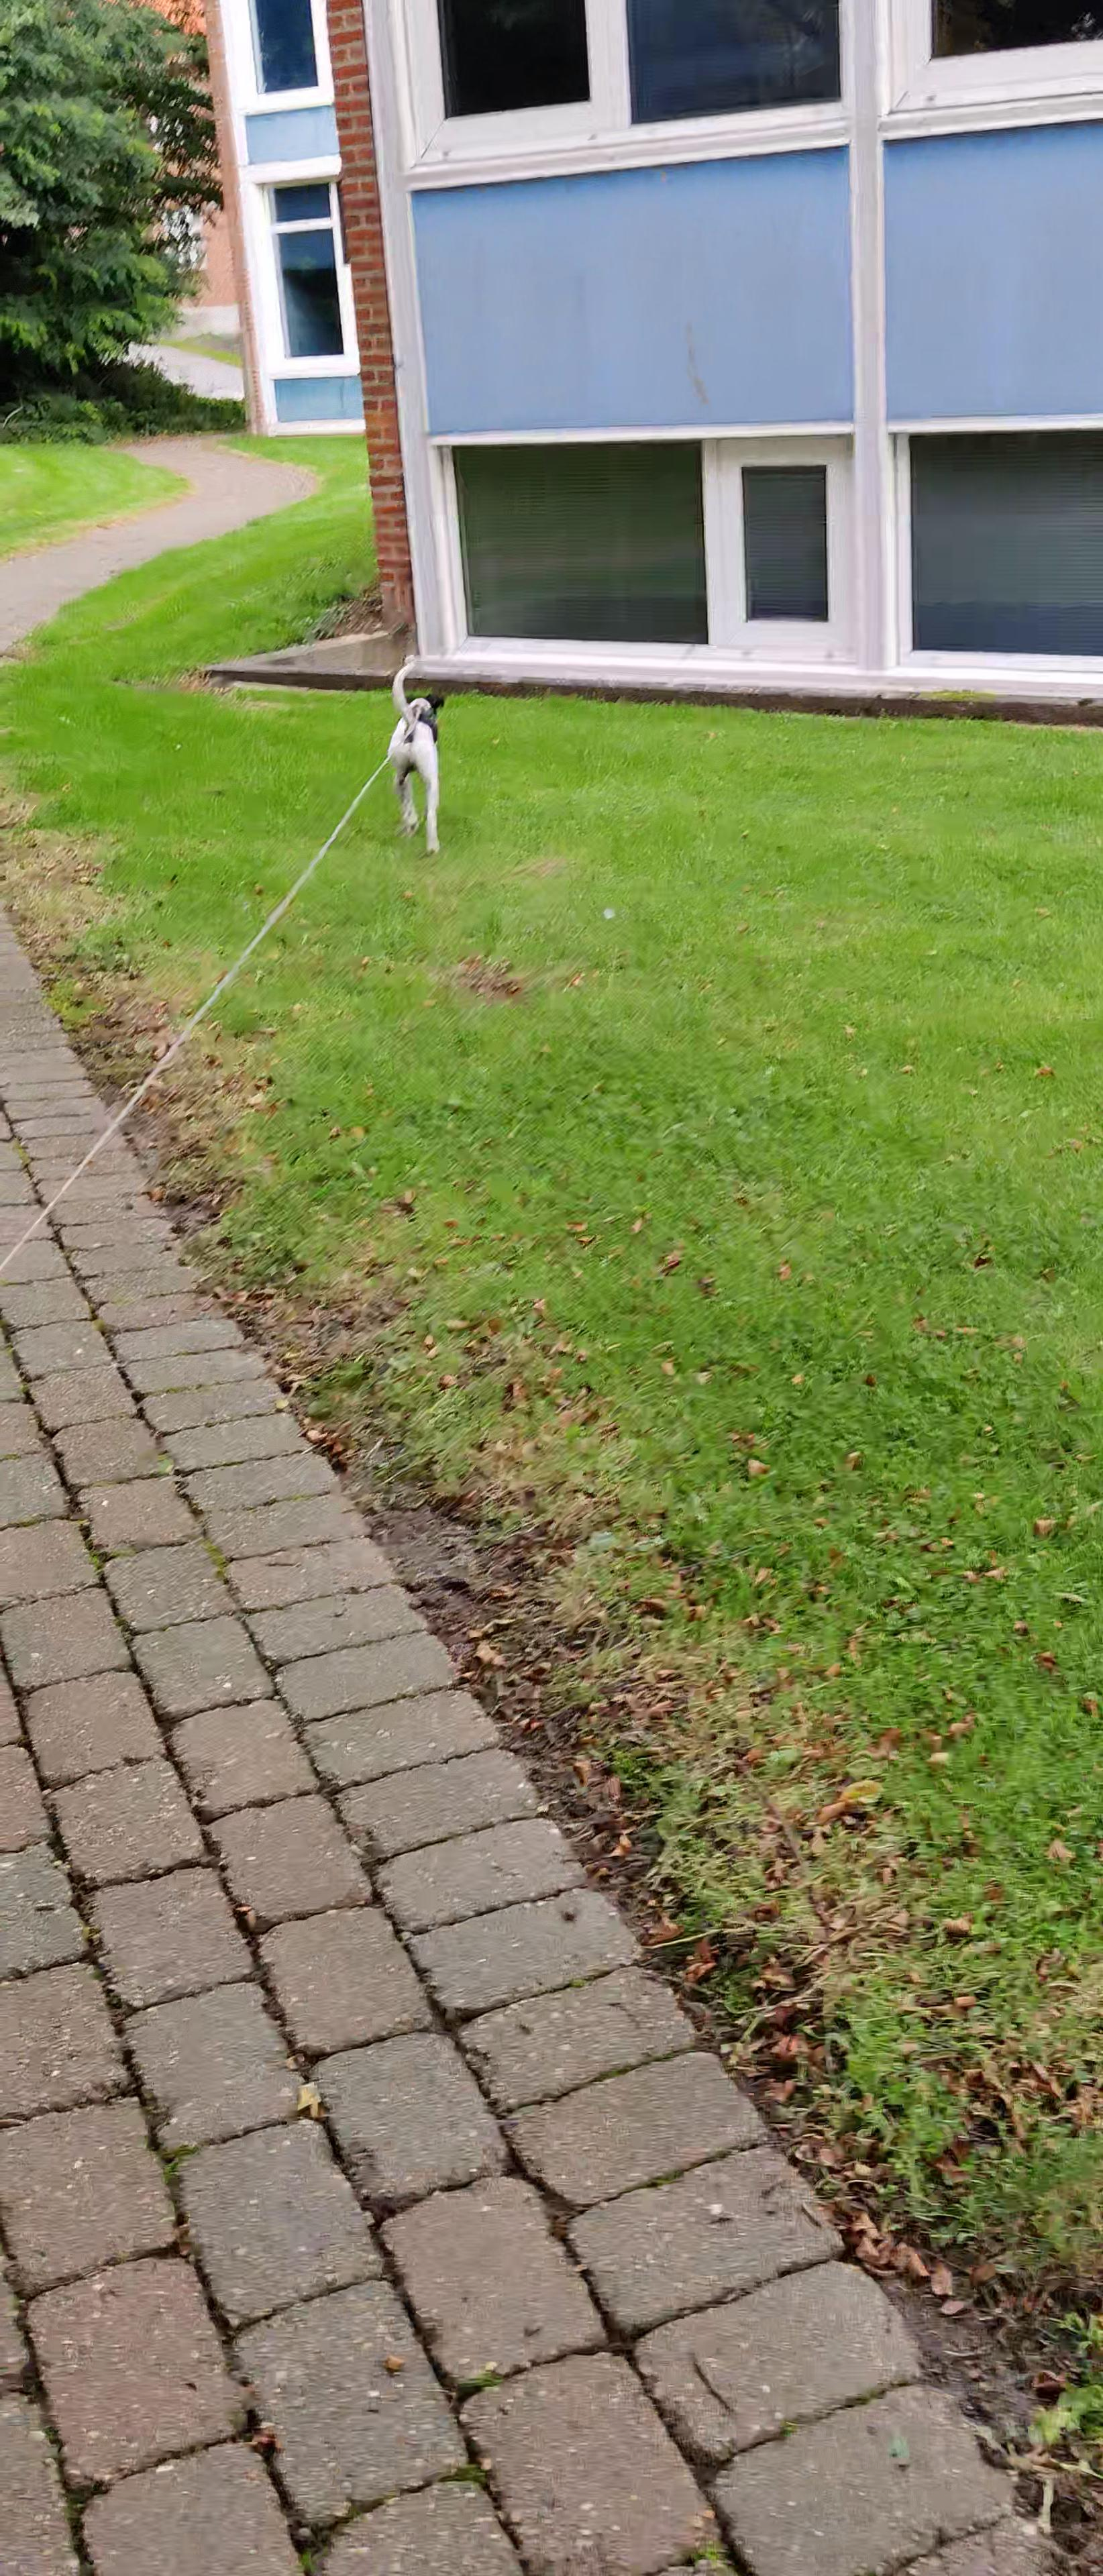Dog: (380, 659, 455, 864)
